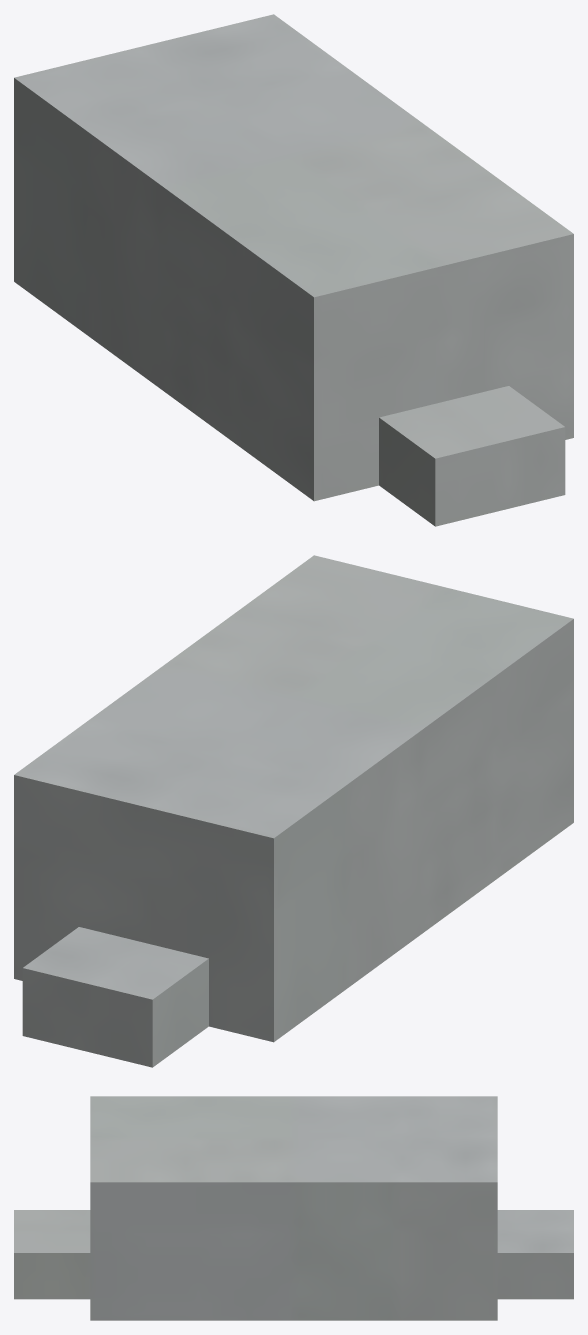
The model's file is resistor.obj.
The picture shows the model from 3 angles, top to bottom: view 1: azimuth 30°, elevation 25°; view 2: azimuth 150°, elevation 25°; view 3: azimuth 270°, elevation 25°; orthographic projection. The views are drawn at different scales.
Visible parts, largest first — view 1: entity0_brush0, entity0_brush2; view 2: entity0_brush0, entity0_brush1; view 3: entity0_brush0, entity0_brush1, entity0_brush2.
Part boxes in pixels (x1=…): entity0_brush0: x1=14, y1=14, x2=573, y2=501; entity0_brush2: x1=379, y1=386, x2=565, y2=526; entity0_brush0: x1=14, y1=555, x2=573, y2=1042; entity0_brush1: x1=22, y1=927, x2=208, y2=1067; entity0_brush0: x1=90, y1=1096, x2=497, y2=1320; entity0_brush1: x1=497, y1=1210, x2=573, y2=1299; entity0_brush2: x1=14, y1=1210, x2=90, y2=1299.
Bounding box in the file's own units: 16 × 12 × 44.
